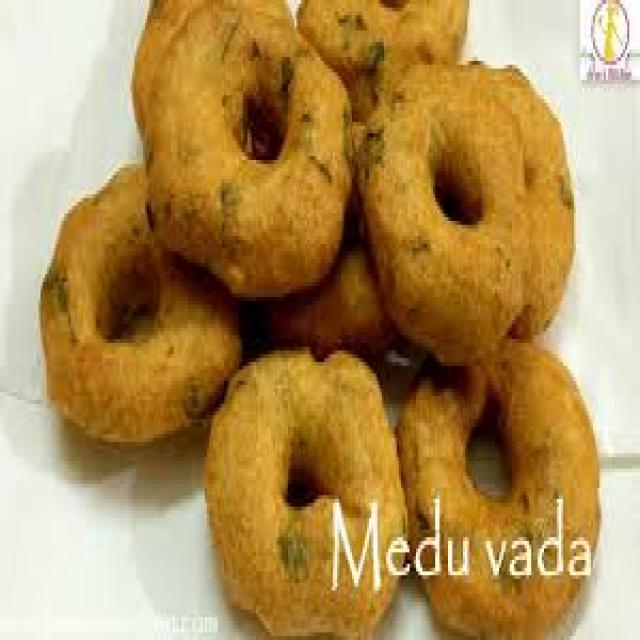MEDU VADA: (147, 1, 354, 295), (394, 341, 603, 631), (201, 352, 413, 636), (42, 159, 245, 435), (363, 47, 530, 370), (466, 55, 573, 337)
